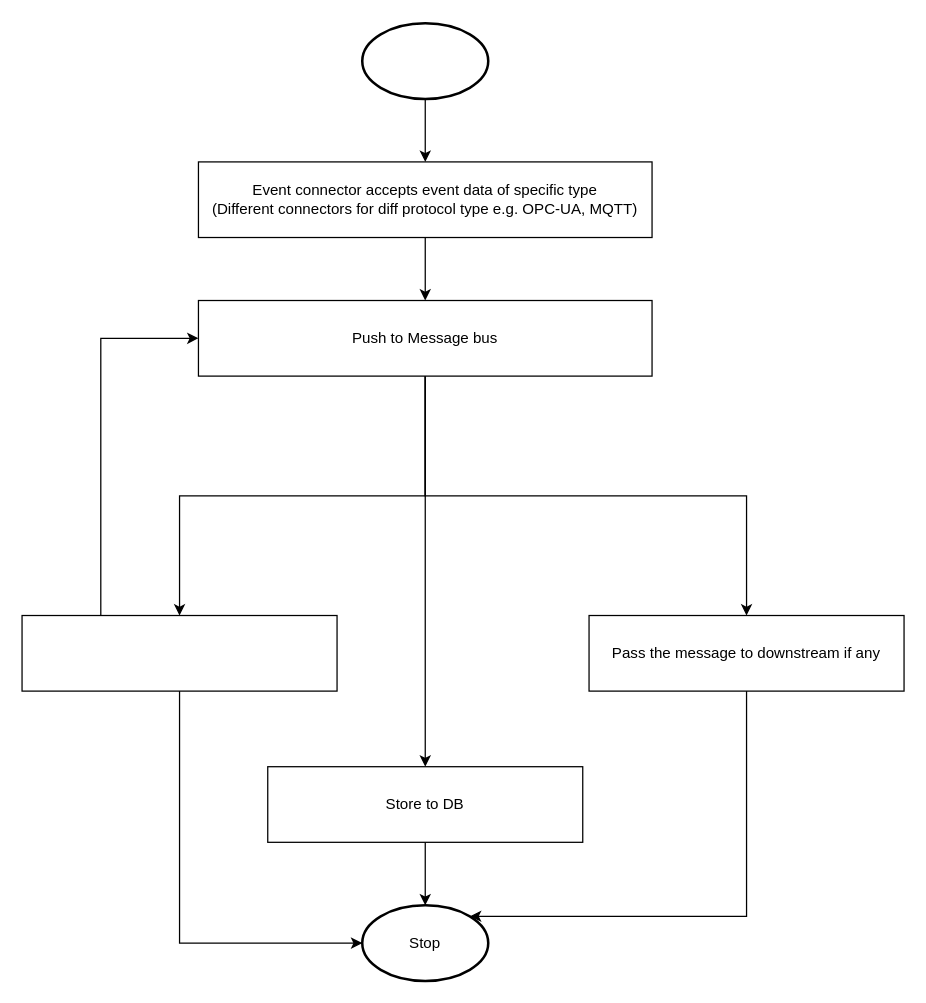
Image size: 926x1003. Some labels were removed from this diagram. The box of each missing label's shape, as (x1, y1, x2, y2) in pixels:
start: (360, 21, 489, 100)
Updates all upstream/downstream records (e.g. parent AAS, Submodels): (21, 614, 337, 691)
